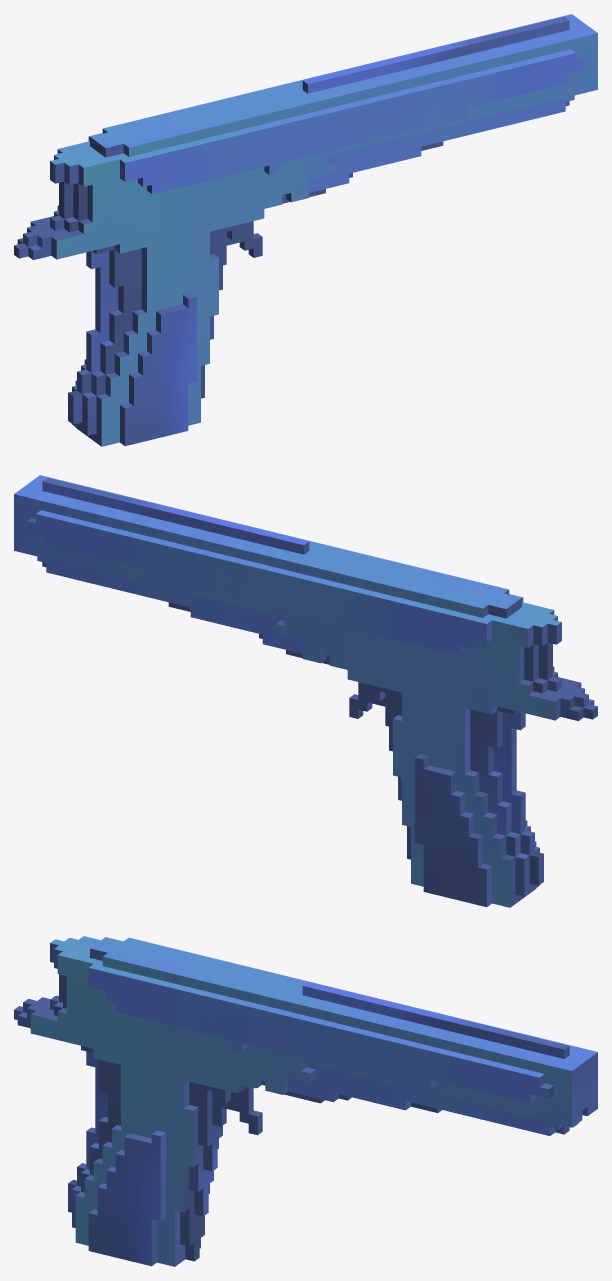
Rendered from DesertEagleFPSJAM.fbx.
3 renders of one model, top to bottom at view 1: azimuth 30°, elevation 25°; view 2: azimuth 150°, elevation 25°; view 3: azimuth 330°, elevation 25°, orthographic.
Visible parts, largest first — view 1: Cube.001; view 2: Cube.001; view 3: Cube.001.
Boxes of the visible parts, <box> form: Cube.001: <box>14,14,597,446</box>; Cube.001: <box>14,475,597,907</box>; Cube.001: <box>14,936,597,1266</box>.
Size of the model in its own units: 17.1 by 154 by 80.6.
